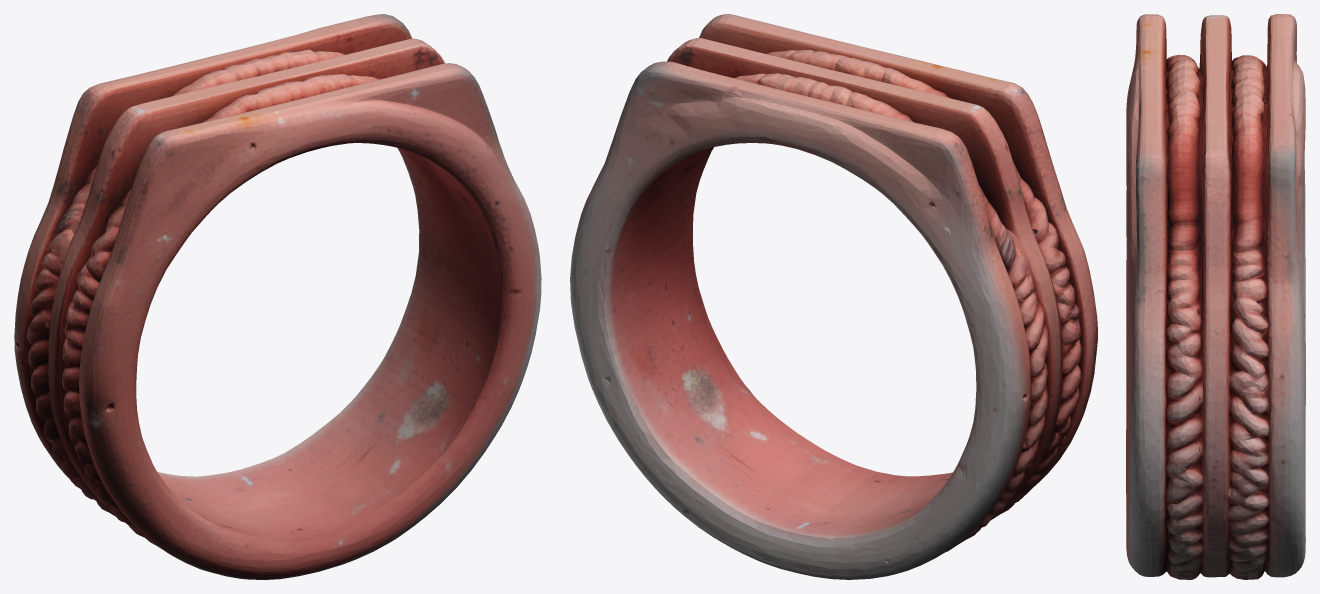
Rendered from after.glb.
3 renders of one model, left to right at view 1: azimuth 30°, elevation 25°; view 2: azimuth 150°, elevation 25°; view 3: azimuth 270°, elevation 25°, orthographic.
Visible parts, largest first — view 1: world; view 2: world; view 3: world.
Boxes of the visible parts, x1,y1,x2,y2 form: world: (14,14,541,579); world: (570,14,1097,579); world: (1126,14,1305,579).
Bounding box in the file's own units: 1 × 0.9941 × 0.342.
Materials: 1 (1 with a texture image).
